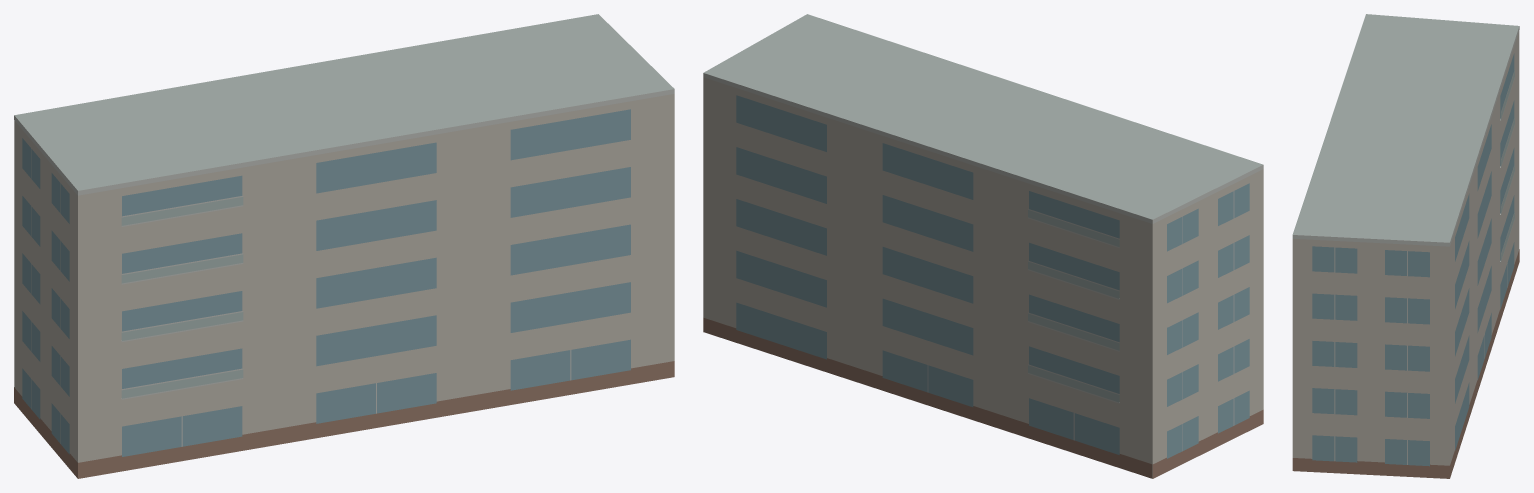
Rendered from survey-upis-32888452.glb.
3 views of the same model, side by side, from view 1: azimuth 30°, elevation 25°; view 2: azimuth 150°, elevation 25°; view 3: azimuth 270°, elevation 25° (orthographic). The views are drawn at different scales.
Visible parts, largest first — view 1: survey-upis-32888452.tmp; view 2: survey-upis-32888452.tmp; view 3: survey-upis-32888452.tmp.
Boxes of the visible parts, x1=… form: survey-upis-32888452.tmp: x1=14, y1=14, x2=674, y2=478; survey-upis-32888452.tmp: x1=703, y1=14, x2=1263, y2=478; survey-upis-32888452.tmp: x1=1292, y1=14, x2=1519, y2=478.
Size of the model in its own units: 30.76 by 14.8 by 12.9.
